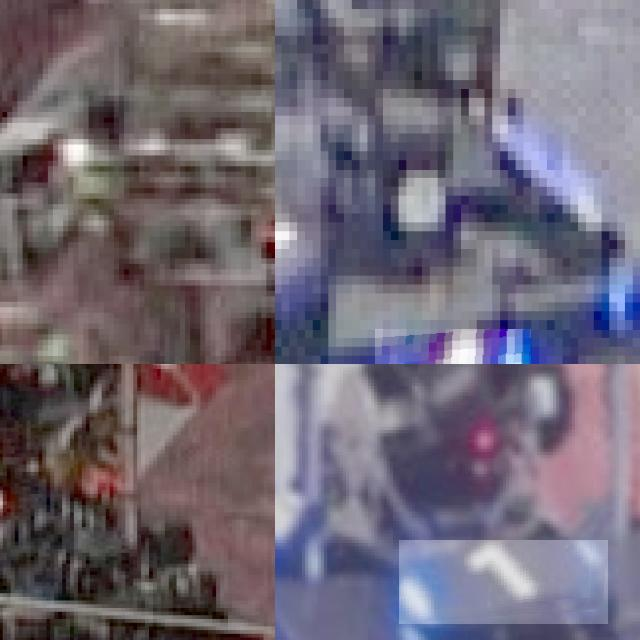B1: (400, 540, 610, 624)
B4: (375, 328, 531, 364)
